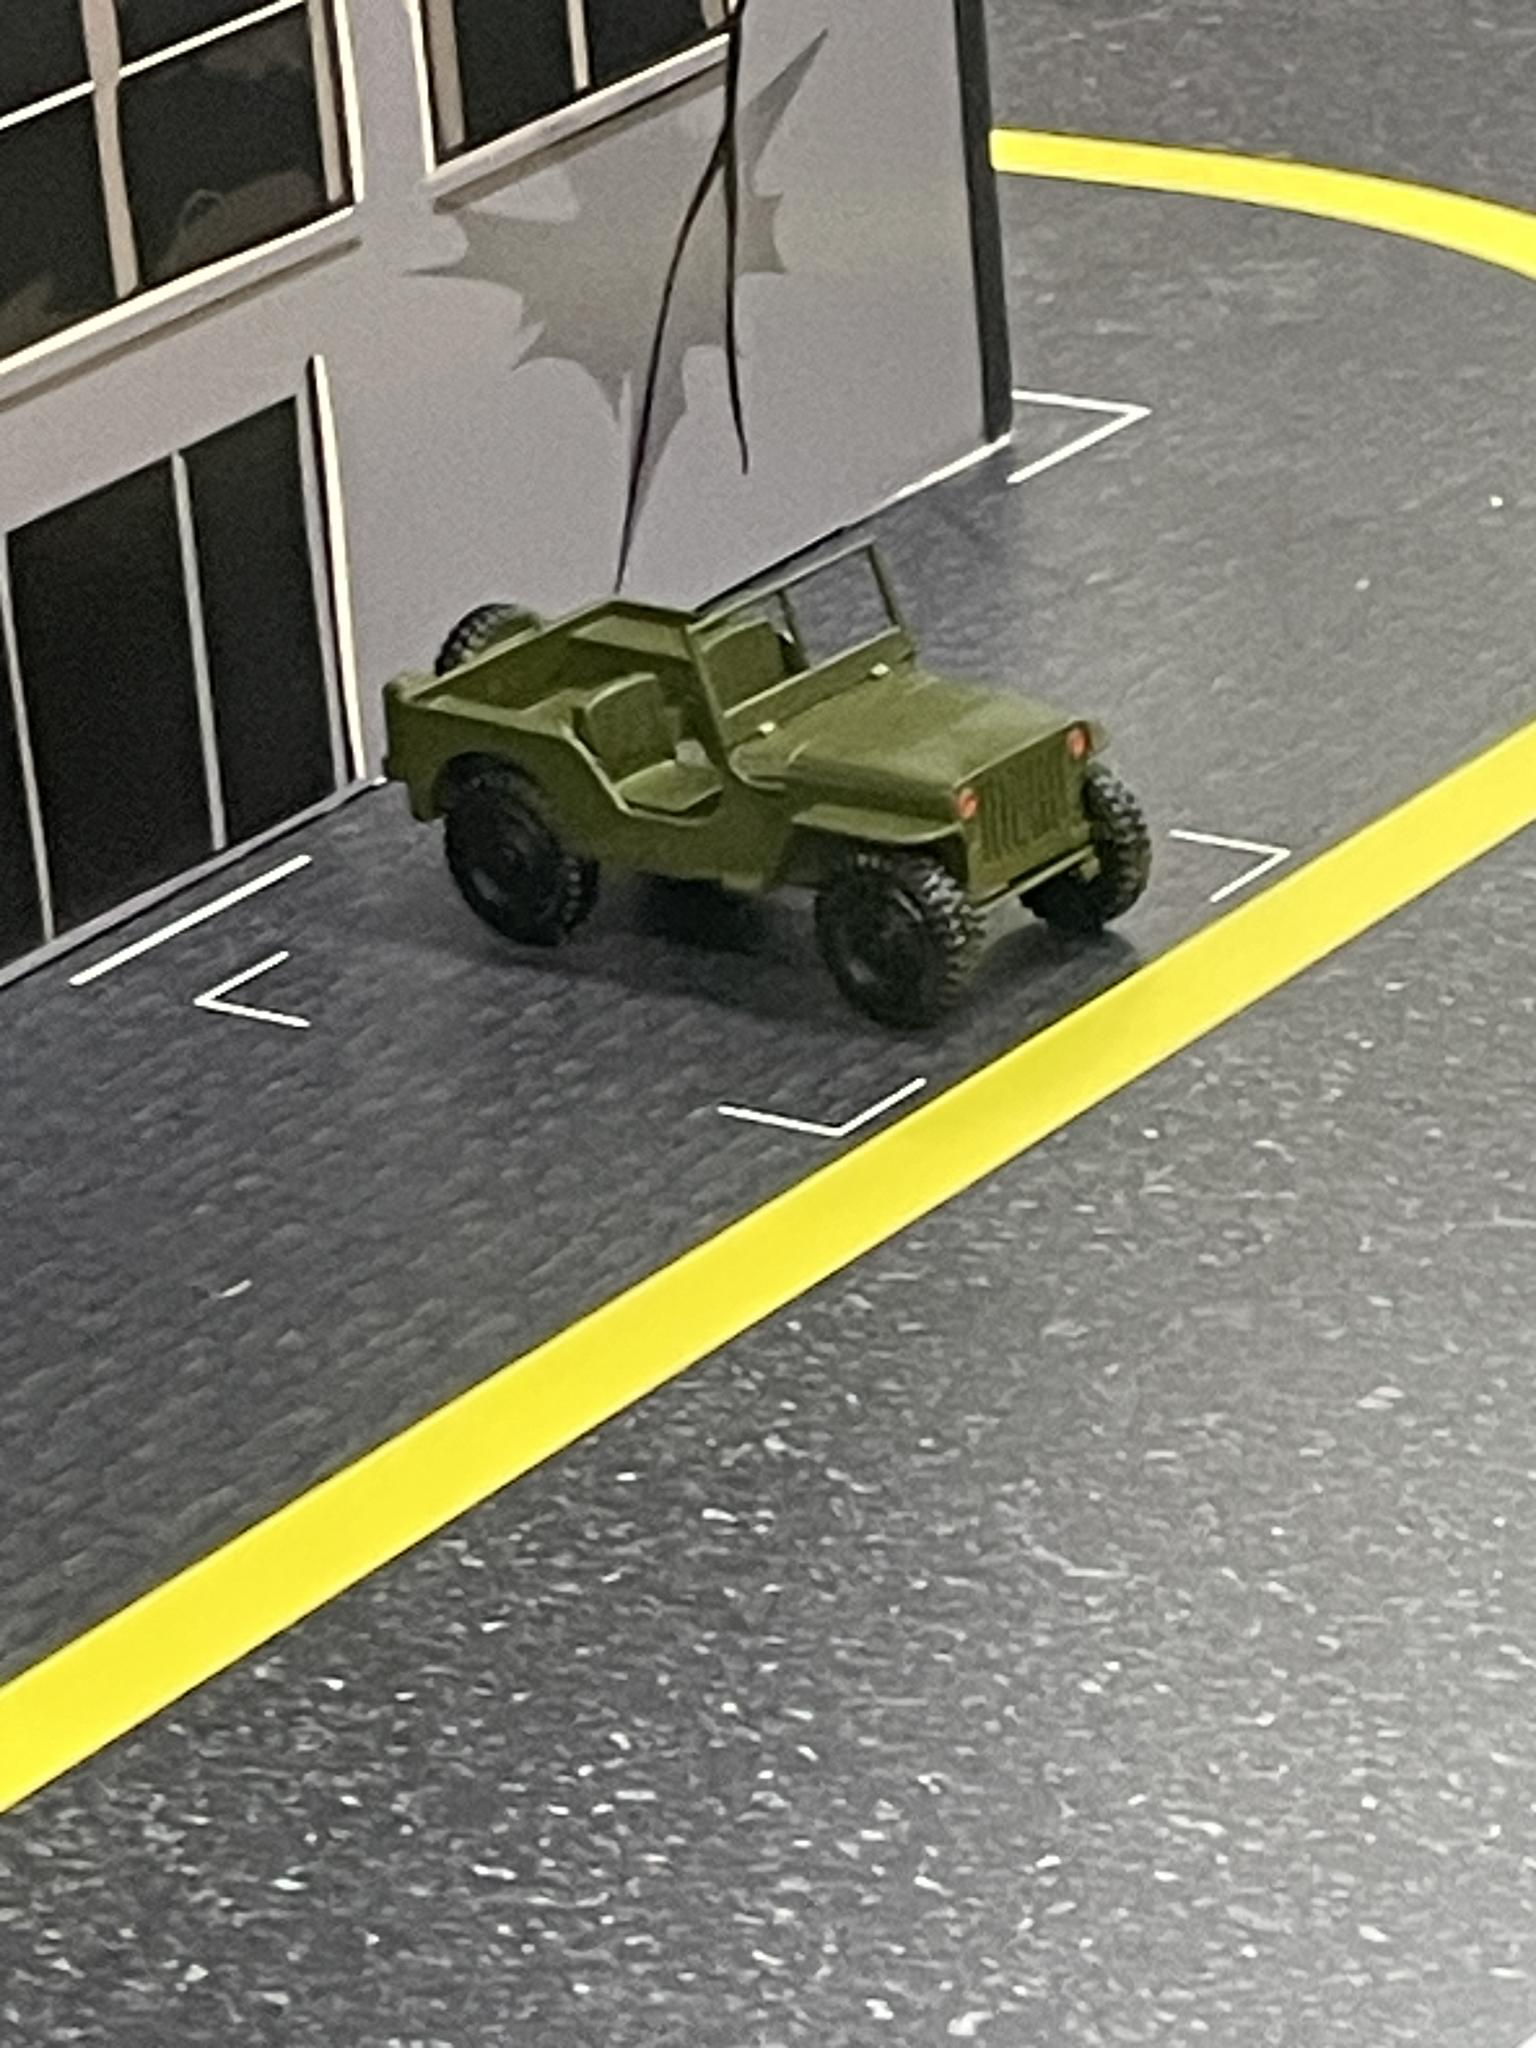Car: (376, 535, 1168, 1042)
